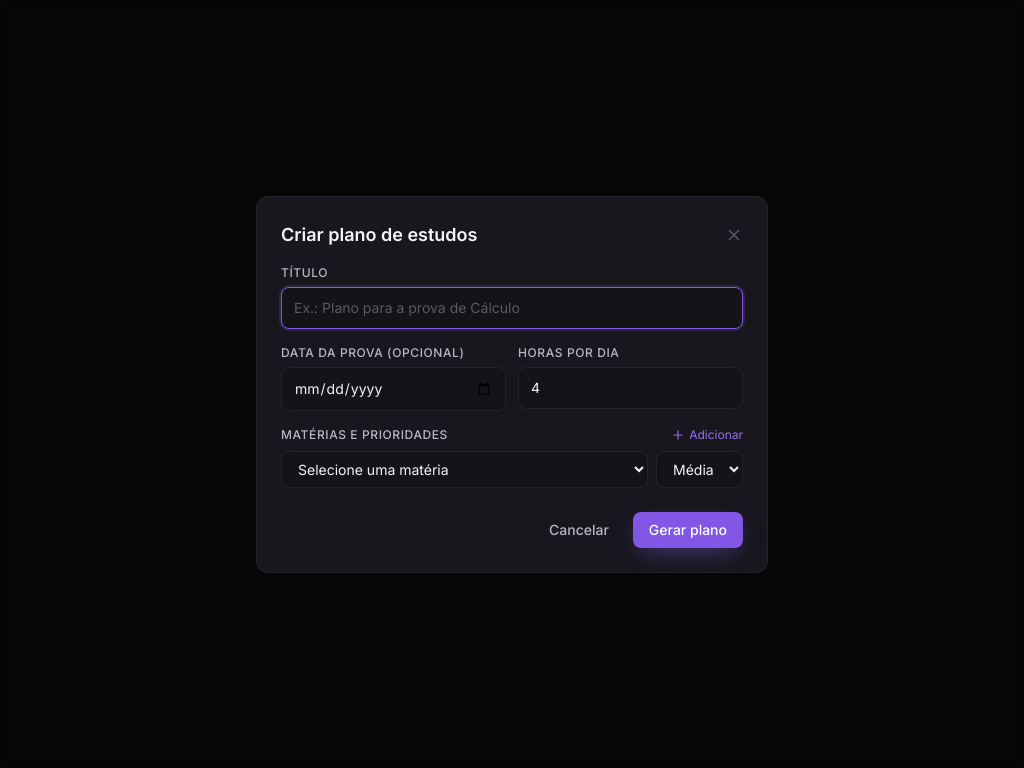
Test: GenerateStudyPlanModal › rejeita titulo vazio
The image size is (1024, 768).
Click the button "Gerar plano".
click(688, 530)  # box x1=633 y1=512 x2=743 y2=548
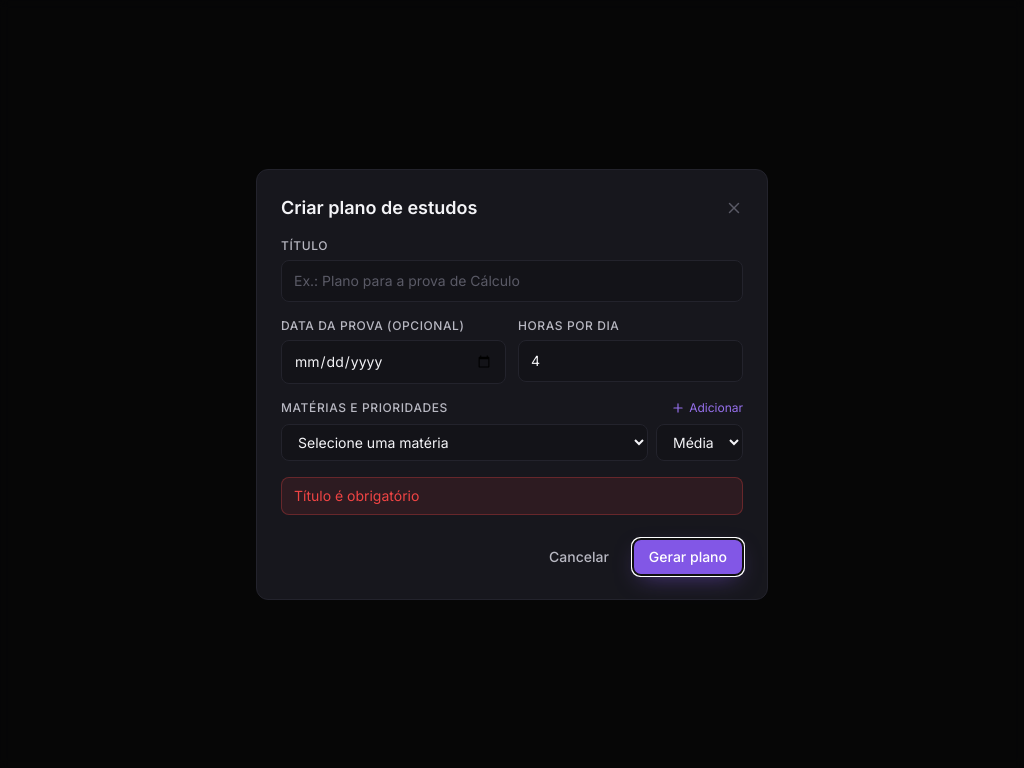
Now the text "Título é obrigatório" is shown, box x1=281 y1=476 x2=743 y2=514
